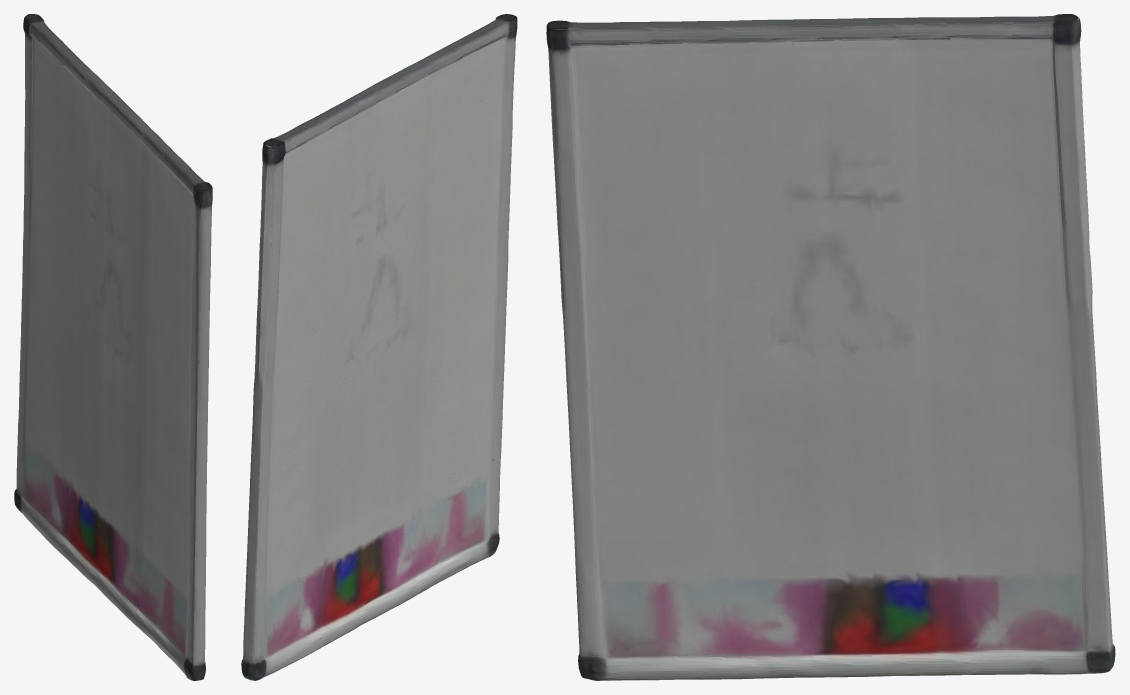
The model's file is whiteboard_on_the_right_wall_000.glb.
The picture shows the model from 3 angles, left to right: view 1: azimuth 30°, elevation 25°; view 2: azimuth 150°, elevation 25°; view 3: azimuth 270°, elevation 25°; orthographic projection. The views are drawn at different scales.
Visible parts, largest first — view 1: whiteboard_on_the_right_wall_000.obj; view 2: whiteboard_on_the_right_wall_000.obj; view 3: whiteboard_on_the_right_wall_000.obj.
Part boxes in pixels (<box>): whiteboard_on_the_right_wall_000.obj: <box>14,14,212,680</box>; whiteboard_on_the_right_wall_000.obj: <box>241,14,517,680</box>; whiteboard_on_the_right_wall_000.obj: <box>546,14,1115,680</box>.
Size of the model in its own units: 0.0447 by 0.4568 by 0.3497.
Materials: 1 (1 with a texture image).
